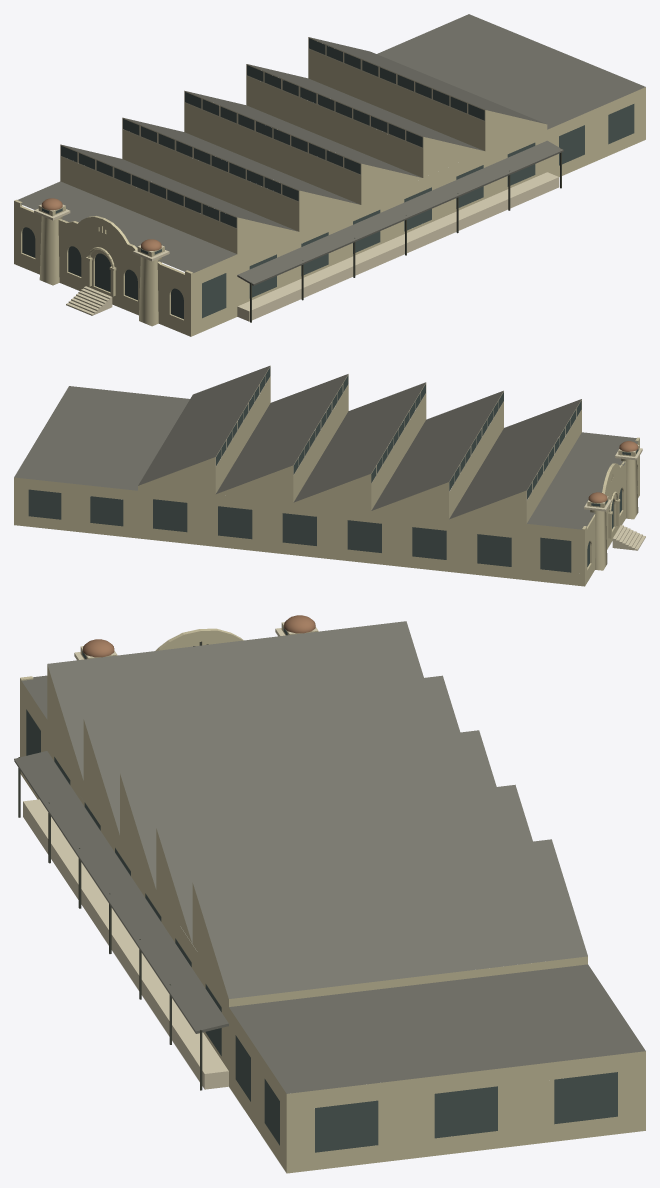
File: anaheim-packing-house-far.glb
The picture shows the model from 3 angles, top to bottom: view 1: azimuth 30°, elevation 25°; view 2: azimuth 150°, elevation 25°; view 3: azimuth 270°, elevation 25°; orthographic projection. The views are drawn at different scales.
Visible parts, largest first — view 1: anaheim-packing-house-0-stone, anaheim-packing-house-0-roof, anaheim-packing-house-0-glass, anaheim-packing-house-0-trim, anaheim-packing-house-0-dark; view 2: anaheim-packing-house-0-roof, anaheim-packing-house-0-stone, anaheim-packing-house-0-glass, anaheim-packing-house-0-trim, anaheim-packing-house-0-cap; view 3: anaheim-packing-house-0-roof, anaheim-packing-house-0-stone, anaheim-packing-house-0-glass, anaheim-packing-house-0-trim, anaheim-packing-house-0-dark, anaheim-packing-house-0-cap.
Boxes of the visible parts, bbox=[...] form: anaheim-packing-house-0-stone: bbox=[14, 49, 645, 336]; anaheim-packing-house-0-roof: bbox=[17, 14, 645, 285]; anaheim-packing-house-0-glass: bbox=[22, 38, 634, 319]; anaheim-packing-house-0-trim: bbox=[34, 37, 559, 321]; anaheim-packing-house-0-dark: bbox=[250, 148, 561, 322]; anaheim-packing-house-0-roof: bbox=[14, 366, 637, 529]; anaheim-packing-house-0-stone: bbox=[14, 377, 639, 586]; anaheim-packing-house-0-glass: bbox=[28, 367, 638, 572]; anaheim-packing-house-0-trim: bbox=[215, 366, 645, 550]; anaheim-packing-house-0-cap: bbox=[588, 441, 638, 502]; anaheim-packing-house-0-roof: bbox=[14, 621, 645, 1093]; anaheim-packing-house-0-stone: bbox=[20, 623, 645, 1173]; anaheim-packing-house-0-glass: bbox=[26, 627, 617, 1152]; anaheim-packing-house-0-trim: bbox=[23, 622, 318, 1089]; anaheim-packing-house-0-dark: bbox=[18, 641, 208, 1090]; anaheim-packing-house-0-cap: bbox=[83, 615, 315, 657].
Size of the model in its own units: 83.96 by 13.2 by 50.35.
